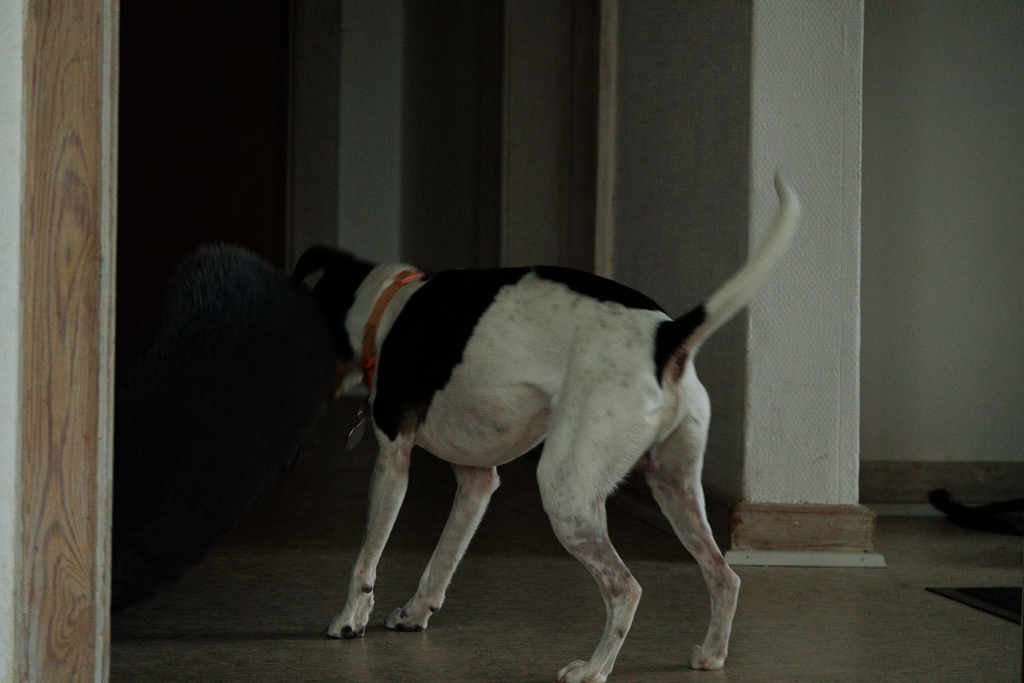Dog: (265, 160, 808, 683)
